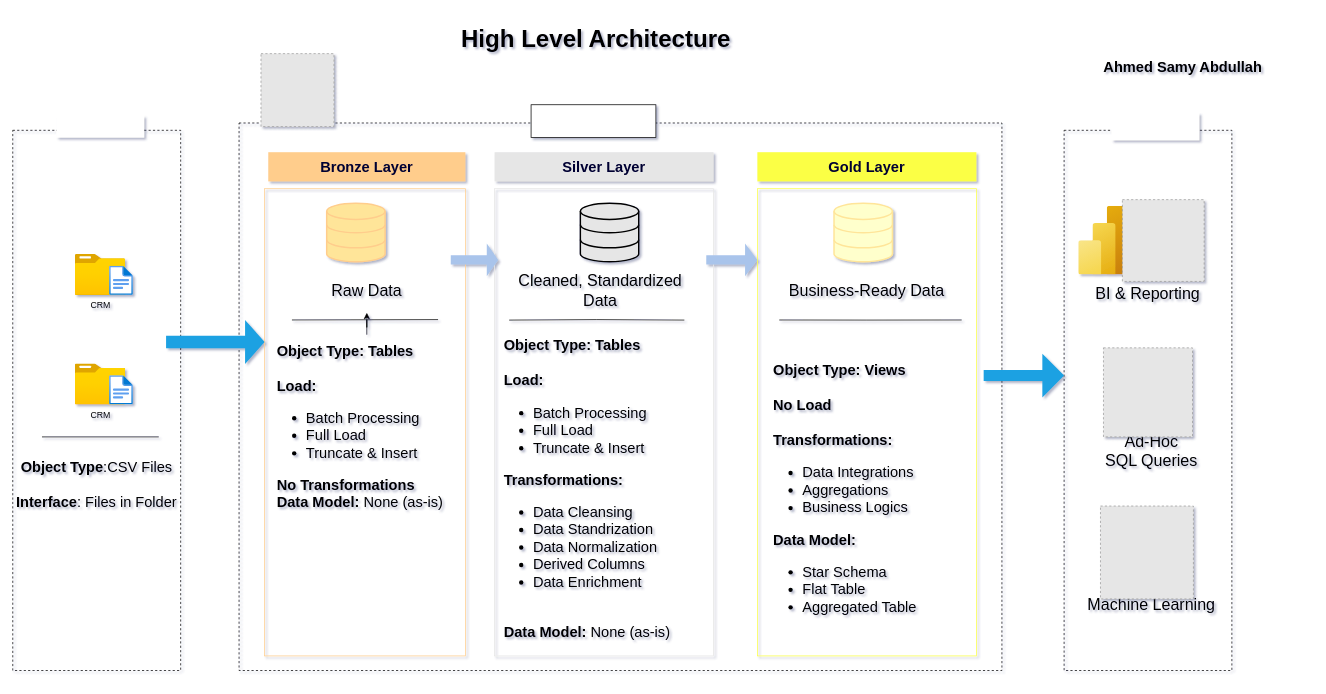
Image size: 1326x694. Some labels were removed from this diagram. Grey dashed boxes stand in for pictures. Here are the shapes that lost their labels. From the top down, the box of each, then its label:
(56, 115, 144, 137): Sources
(530, 104, 656, 138): Data Warehouse
(1111, 113, 1199, 140): Consume
